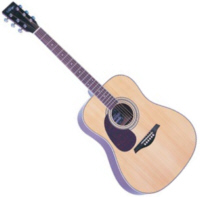guitar: (3, 2, 197, 195)
